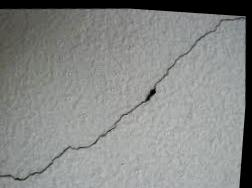crack: (0, 13, 246, 180)
